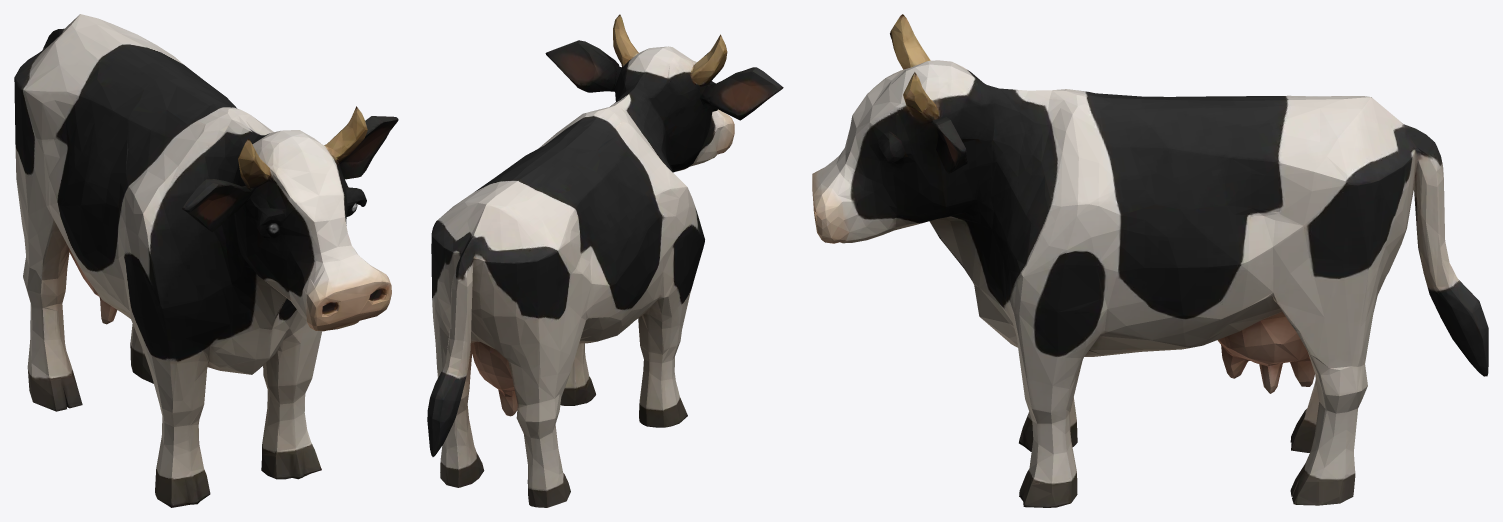
File: cow.glb
The picture shows the model from 3 angles, left to right: view 1: azimuth 30°, elevation 25°; view 2: azimuth 150°, elevation 25°; view 3: azimuth 270°, elevation 25°; orthographic projection. The views are drawn at different scales.
Visible parts, largest first — view 1: world; view 2: world; view 3: world.
Part boxes in pixels (bbox=[...]): world: bbox=[14, 14, 398, 507]; world: bbox=[427, 14, 783, 507]; world: bbox=[812, 14, 1488, 507].
Bounding box in the file's own units: 0.4443 × 0.6973 × 0.9983.
Materials: 1 (1 with a texture image).
